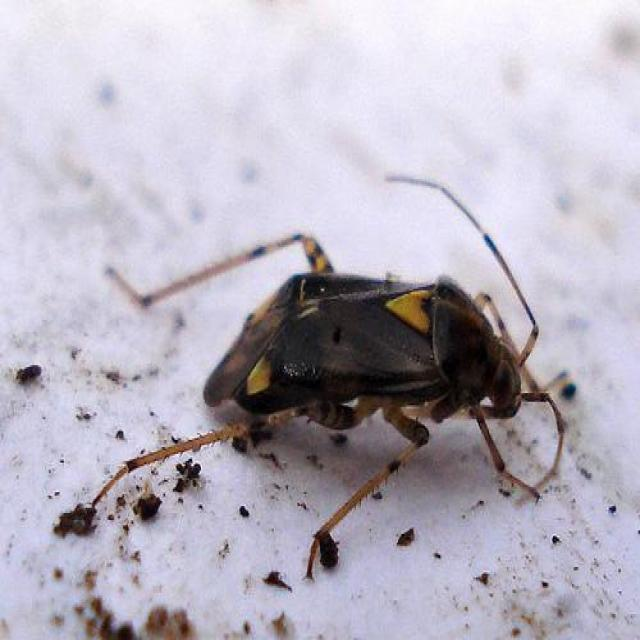Miridae-Adult-: (70, 165, 573, 528)
